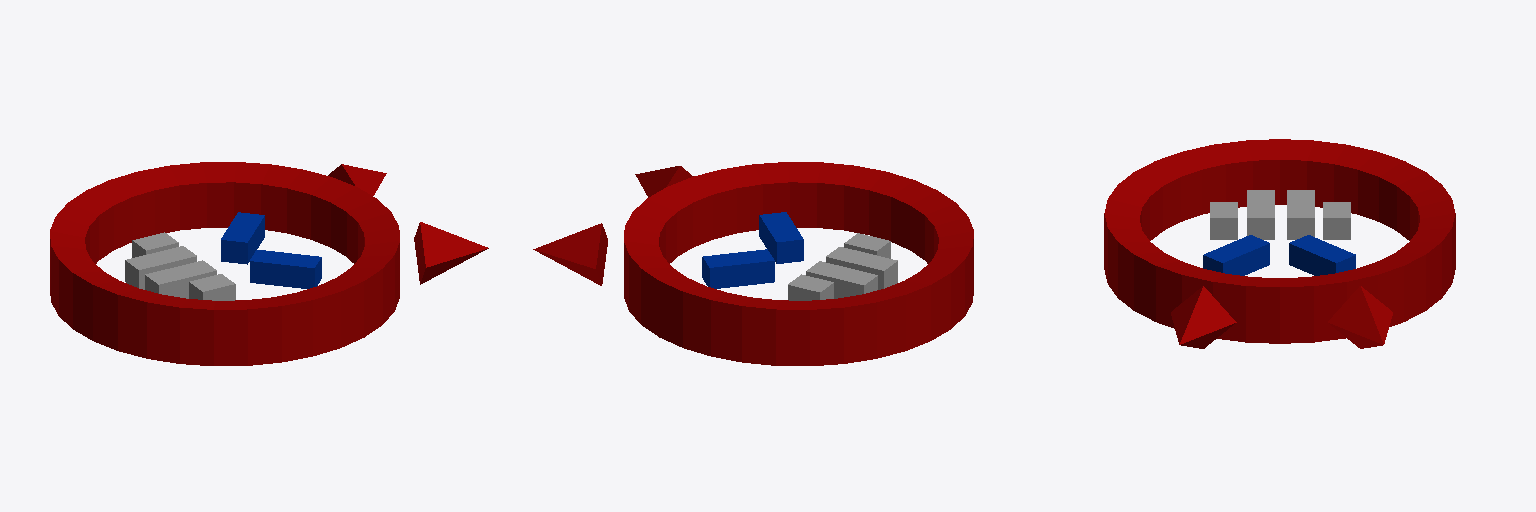
The model's file is ring.obj.
3 renders of one model, left to right at view 1: azimuth 30°, elevation 25°; view 2: azimuth 150°, elevation 25°; view 3: azimuth 270°, elevation 25°, orthographic.
Parts seen in each view (by area): view 1: Cube; view 2: Cube; view 3: Cube.
Boxes of the visible parts, <box> form: Cube: <box>50,162,488,365</box>; Cube: <box>533,162,973,365</box>; Cube: <box>1104,139,1455,348</box>.
Bounding box in the file's own units: 1.2 × 0.2 × 0.9992.